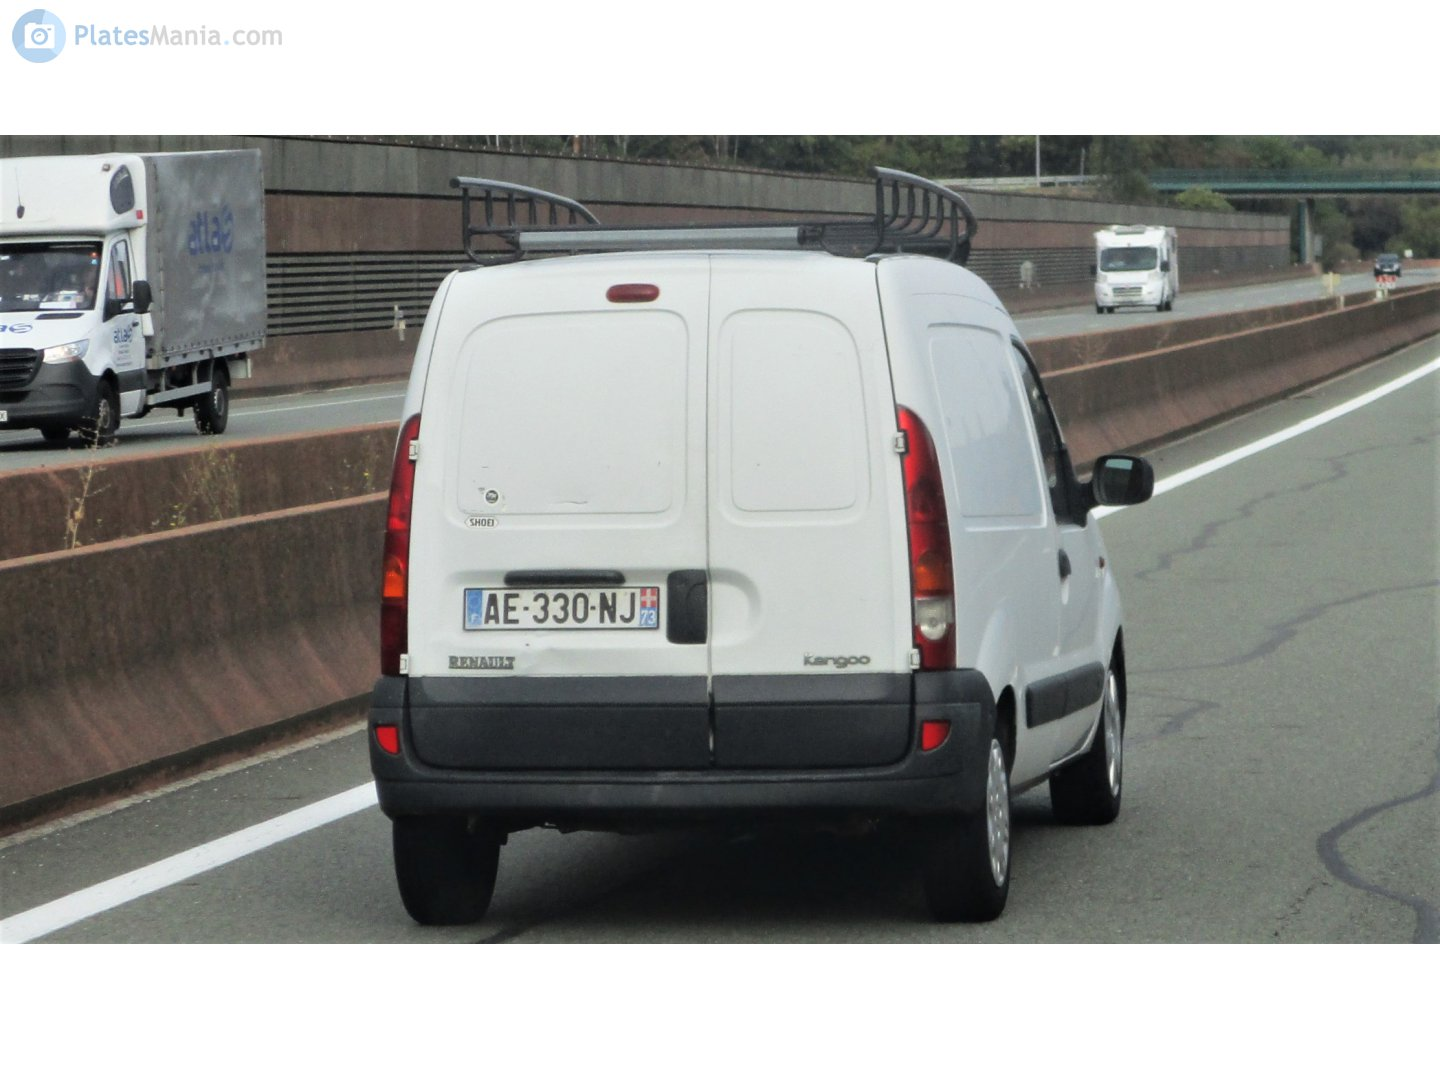licence plate: (459, 582, 665, 635)
